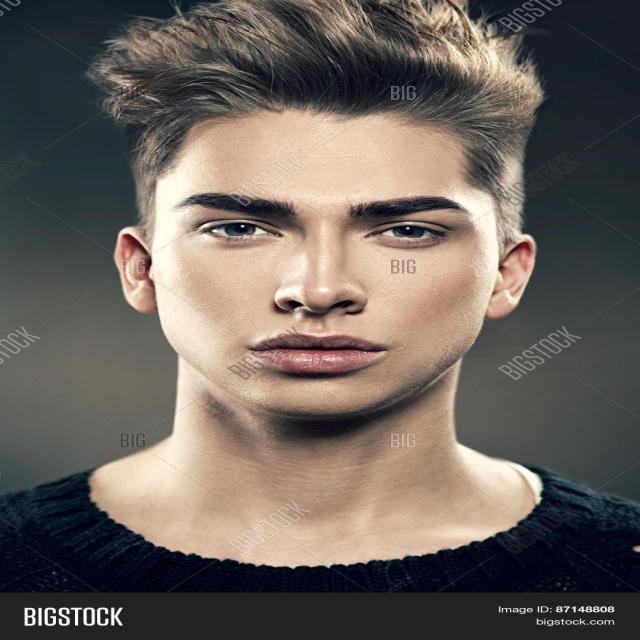front: (163, 176, 476, 377)
